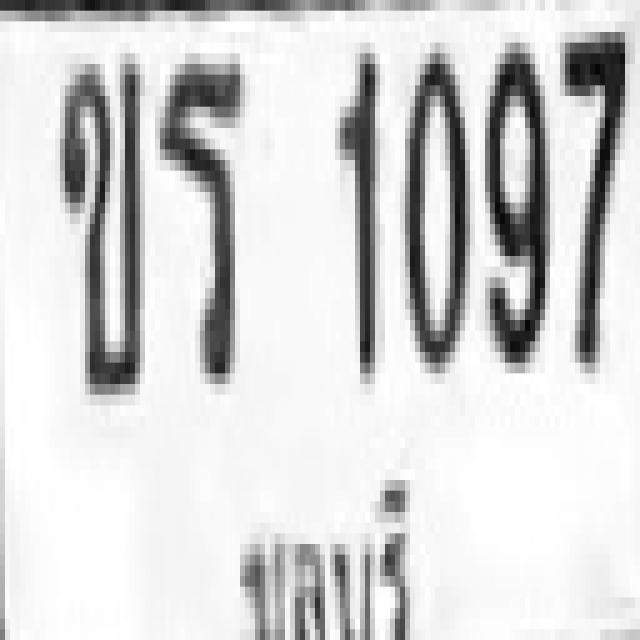0: (400, 42, 465, 362)
1: (335, 43, 375, 373)
11KhorKhai: (55, 53, 140, 384)
44RorRuea: (155, 54, 240, 374)
7: (560, 21, 625, 363)
9: (480, 32, 545, 363)
Chonburi: (213, 466, 440, 640)
